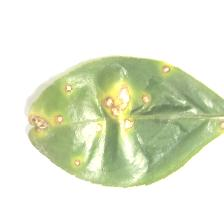canker: (22, 63, 173, 160)
